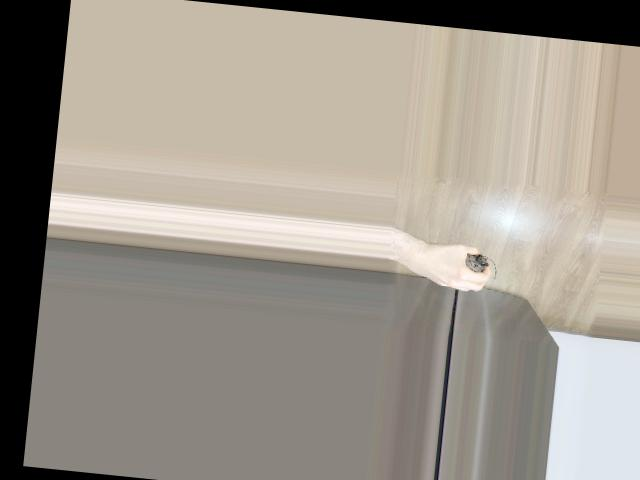beet: (464, 252, 499, 279)
